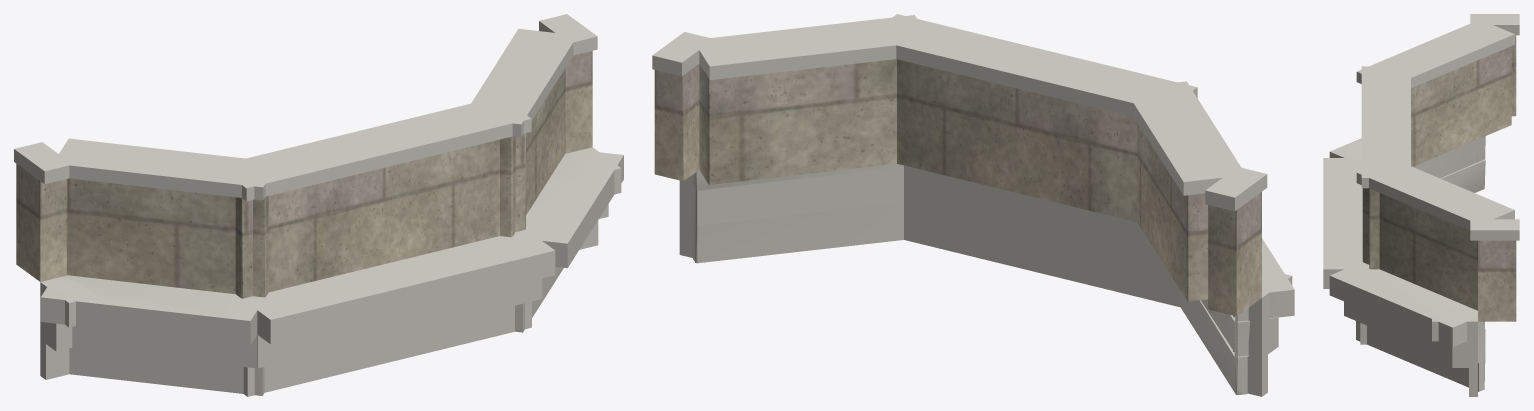
The model's file is bay_top_b.glb.
3 views of the same model, side by side, from view 1: azimuth 30°, elevation 25°; view 2: azimuth 150°, elevation 25°; view 3: azimuth 270°, elevation 25° (orthographic). The views are drawn at different scales.
Visible parts, largest first — view 1: bay_top_b_lime, bay_top_b_grey; view 2: bay_top_b_lime, bay_top_b_grey; view 3: bay_top_b_lime, bay_top_b_grey.
Part boxes in pixels (x1,y1,x2,y2): bay_top_b_lime: [14, 14, 623, 396]; bay_top_b_grey: [16, 51, 592, 298]; bay_top_b_lime: [652, 14, 1294, 396]; bay_top_b_grey: [654, 59, 1261, 316]; bay_top_b_lime: [1323, 14, 1519, 396]; bay_top_b_grey: [1362, 35, 1516, 321].
Size of the model in its own units: 4.22 by 1.44 by 1.54.
2 materials, 1 textured.
